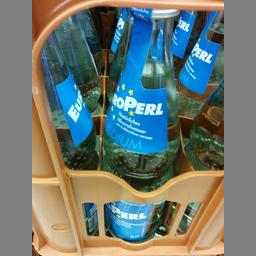water: (100, 7, 180, 242), (38, 30, 97, 232)
